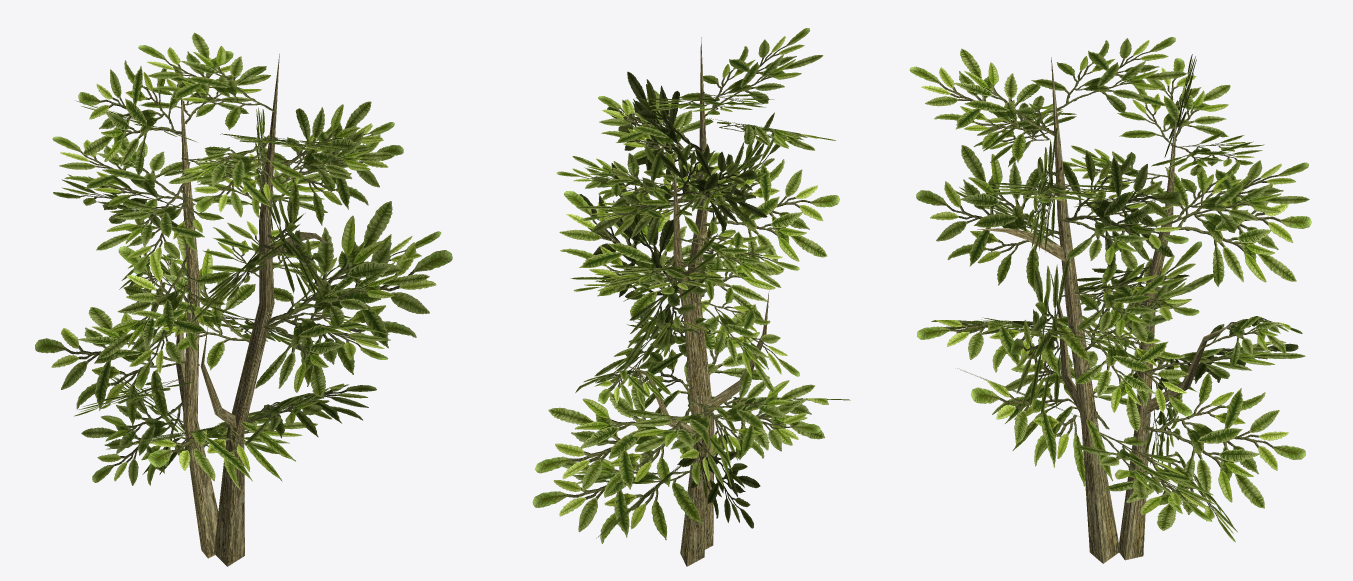
File: guanmu_05.FBX
3 renders of one model, left to right at view 1: azimuth 30°, elevation 25°; view 2: azimuth 150°, elevation 25°; view 3: azimuth 270°, elevation 25°, orthographic. The views are drawn at different scales.
Visible parts, largest first — view 1: guanmu_05_01; view 2: guanmu_05_01; view 3: guanmu_05_01.
Boxes of the visible parts, box(x1,y1,x2,y2) form: guanmu_05_01: box(35, 32, 452, 566); guanmu_05_01: box(532, 28, 850, 566); guanmu_05_01: box(909, 37, 1311, 563).
Size of the model in its own units: 2.65 by 3.69 by 2.95.
